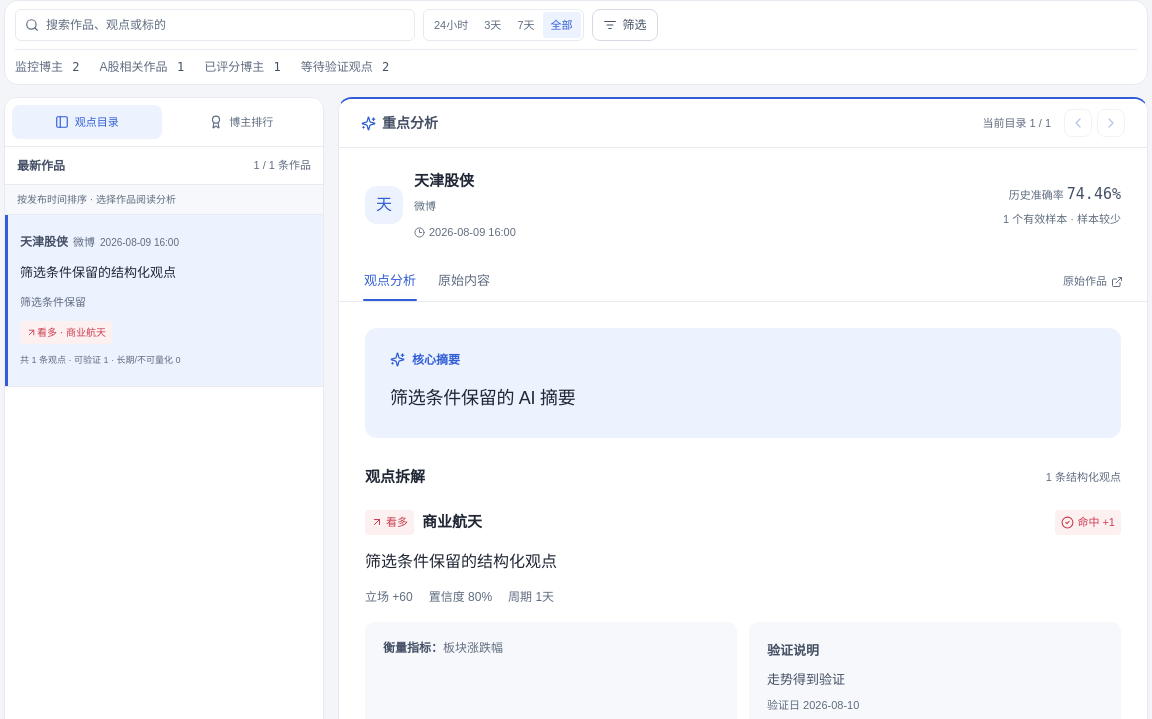
Test: CreatorInsightsView › keeps the selected platform when filters are closed and reopened without refetching
Click the button with class "creator-filter-toggle" at (624, 25), box [592,9,658,41]
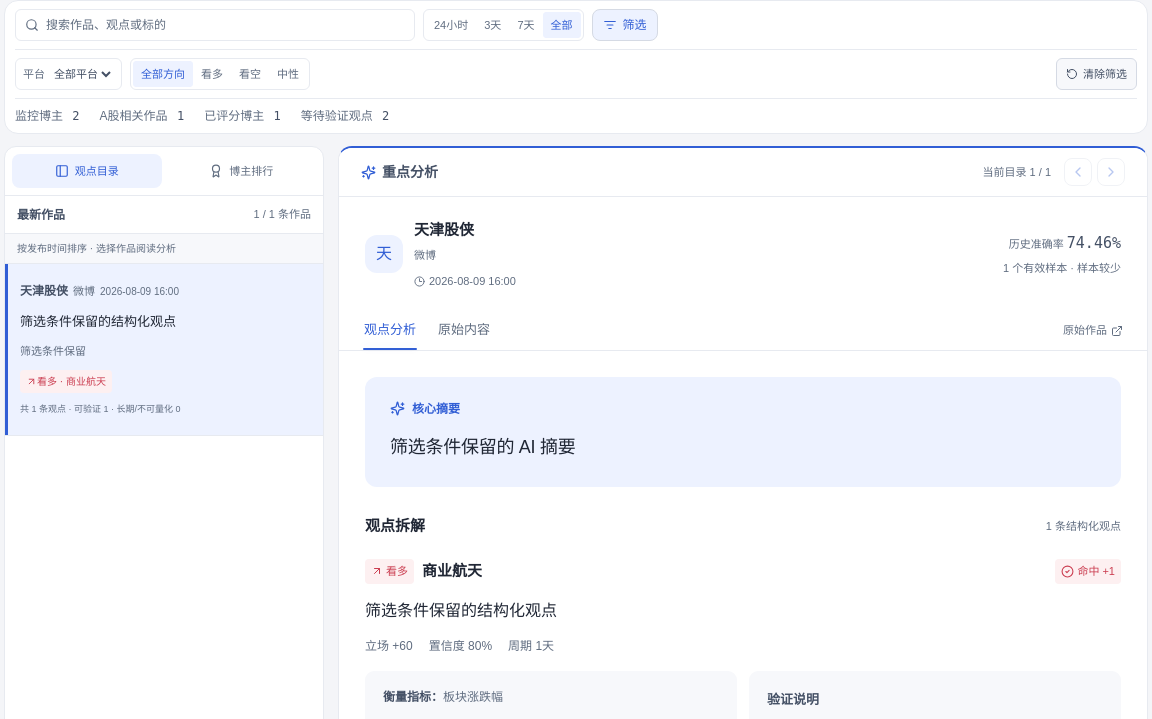
Select "WEIBO" in the dropdown labelled "平台" at (82, 74), box [50,67,114,81]
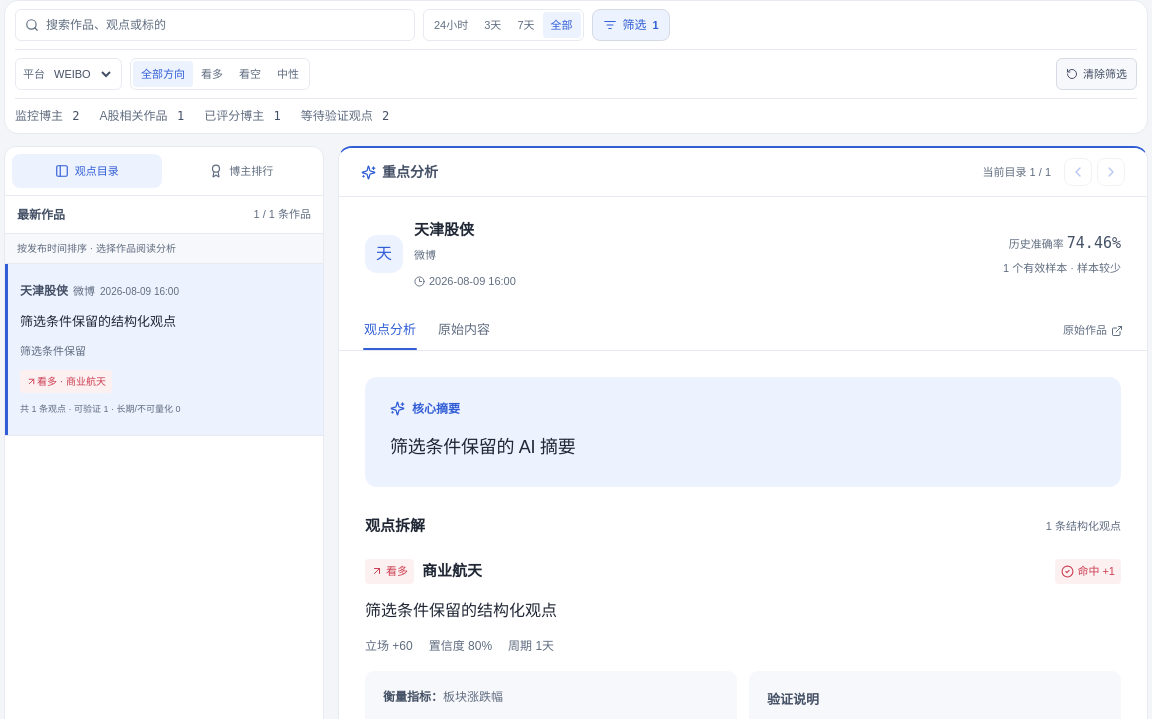
Click the button with class "creator-filter-toggle" at (631, 25), box [592,9,670,41]
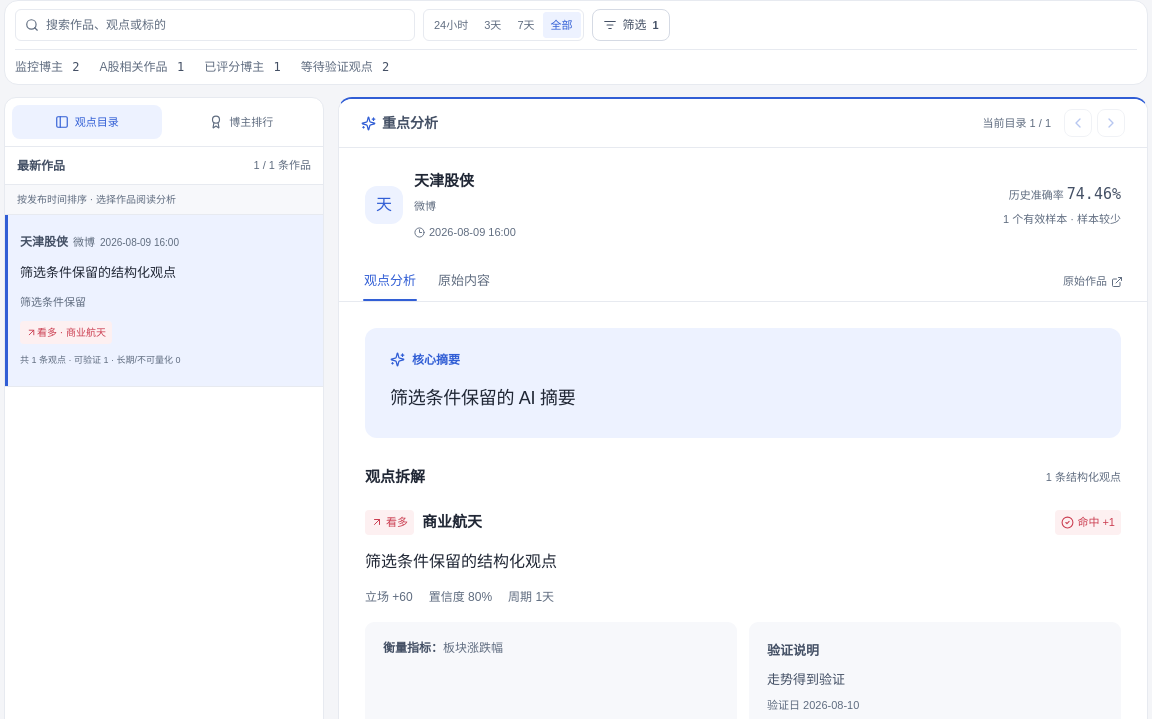
expect the button with class "creator-filter-toggle" is collapsed: met
expect the element with id "creator-extra-filters" is gone: met
Click the button with class "creator-filter-toggle" at (631, 25), box [592,9,670,41]
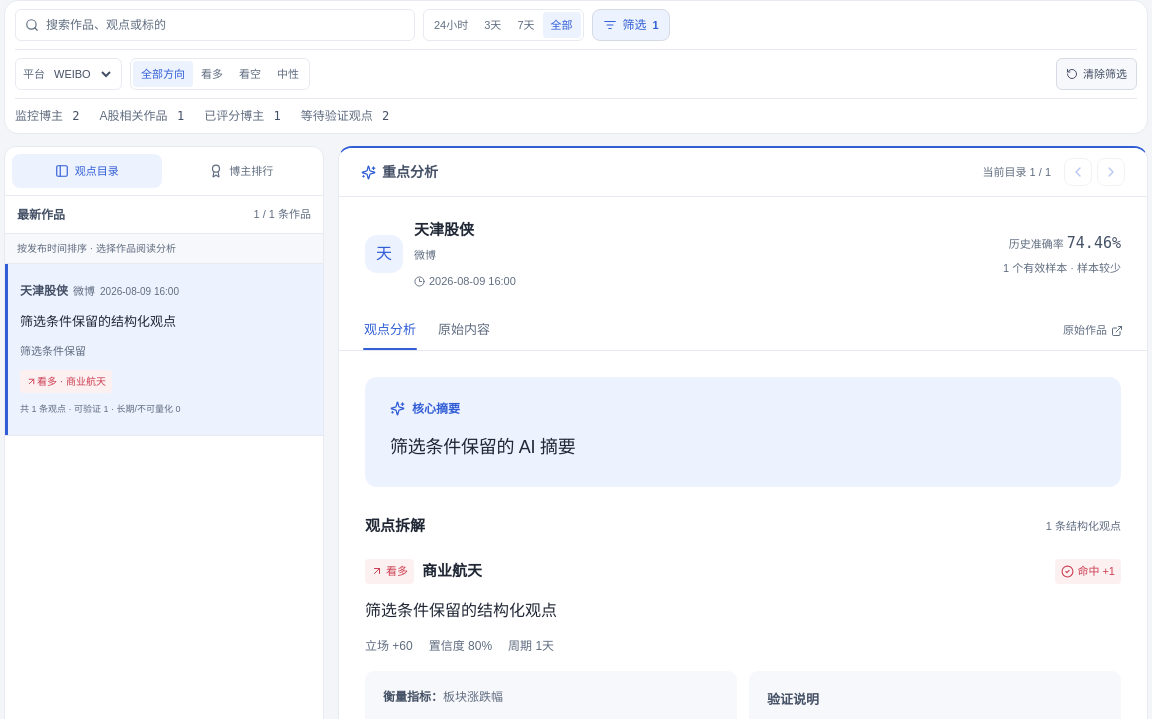
expect the dropdown labelled "平台" shows "WEIBO": met, box [50,67,114,81]
